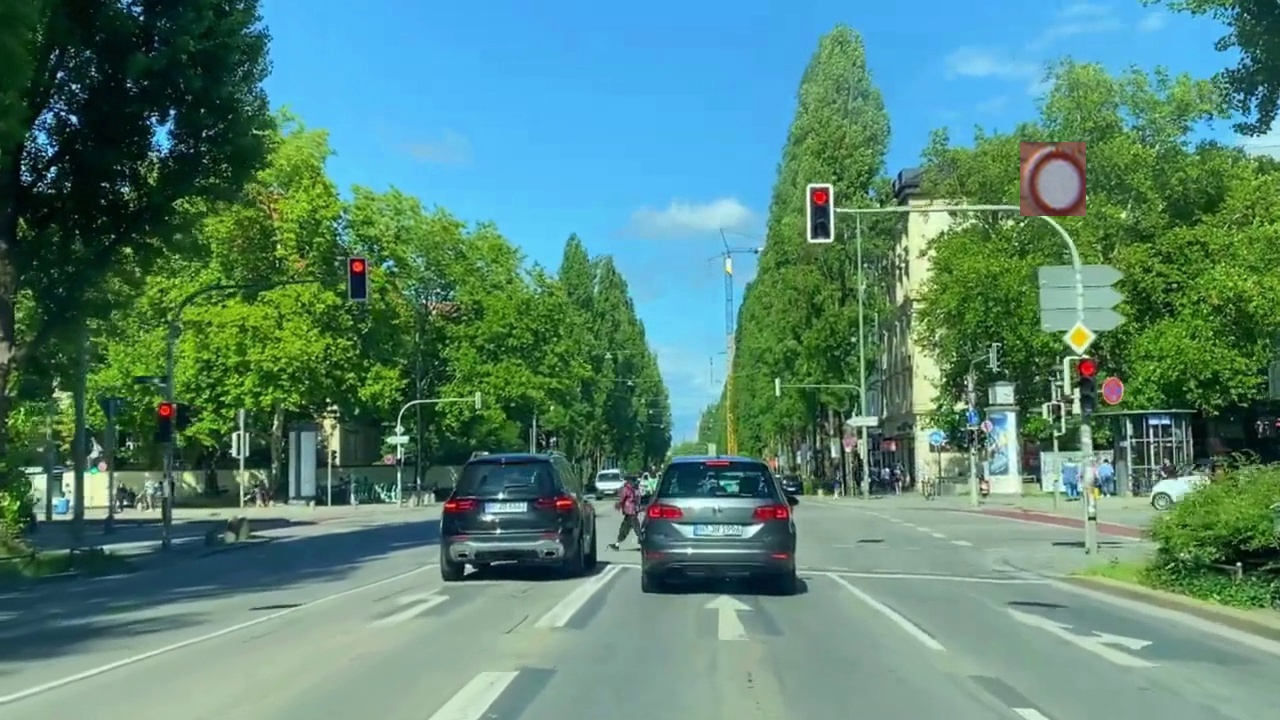No vehicles: (1020, 142, 1086, 216)
